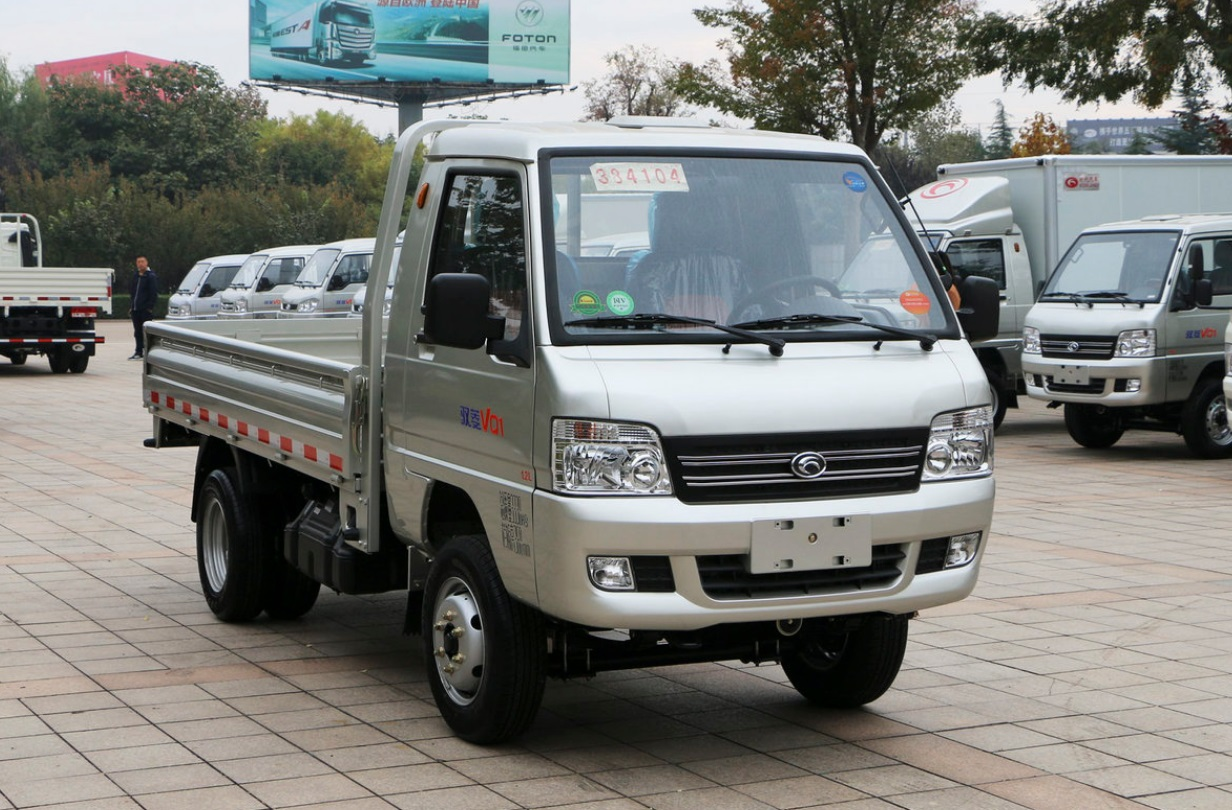truck: (139, 119, 1000, 755)
